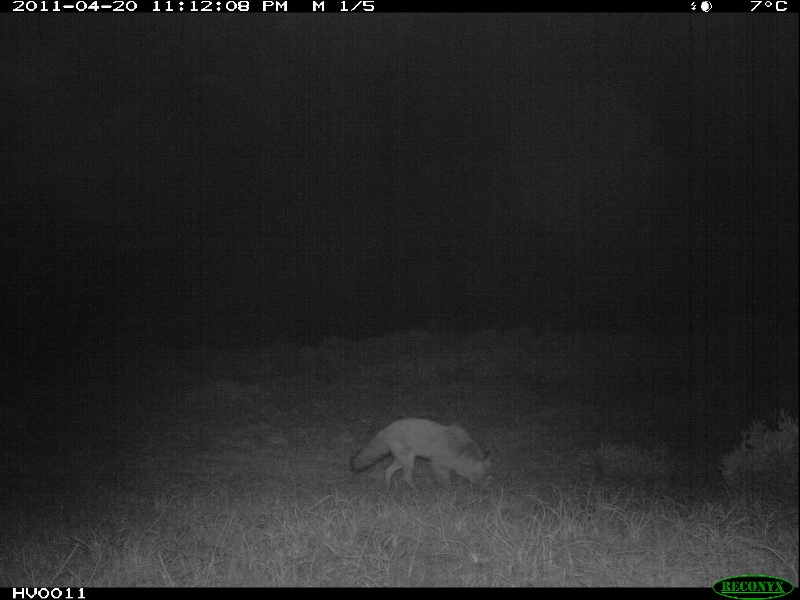fox: (350, 416, 495, 495)
